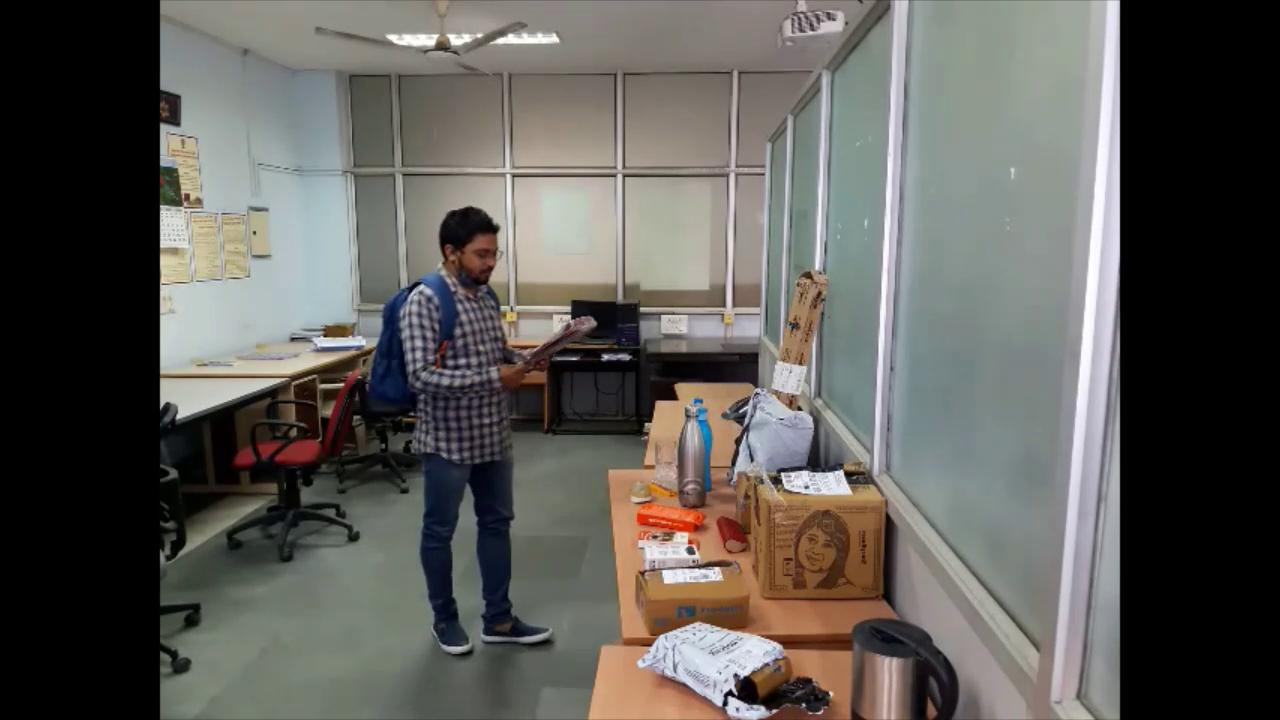Normal: (360, 196, 597, 716)
